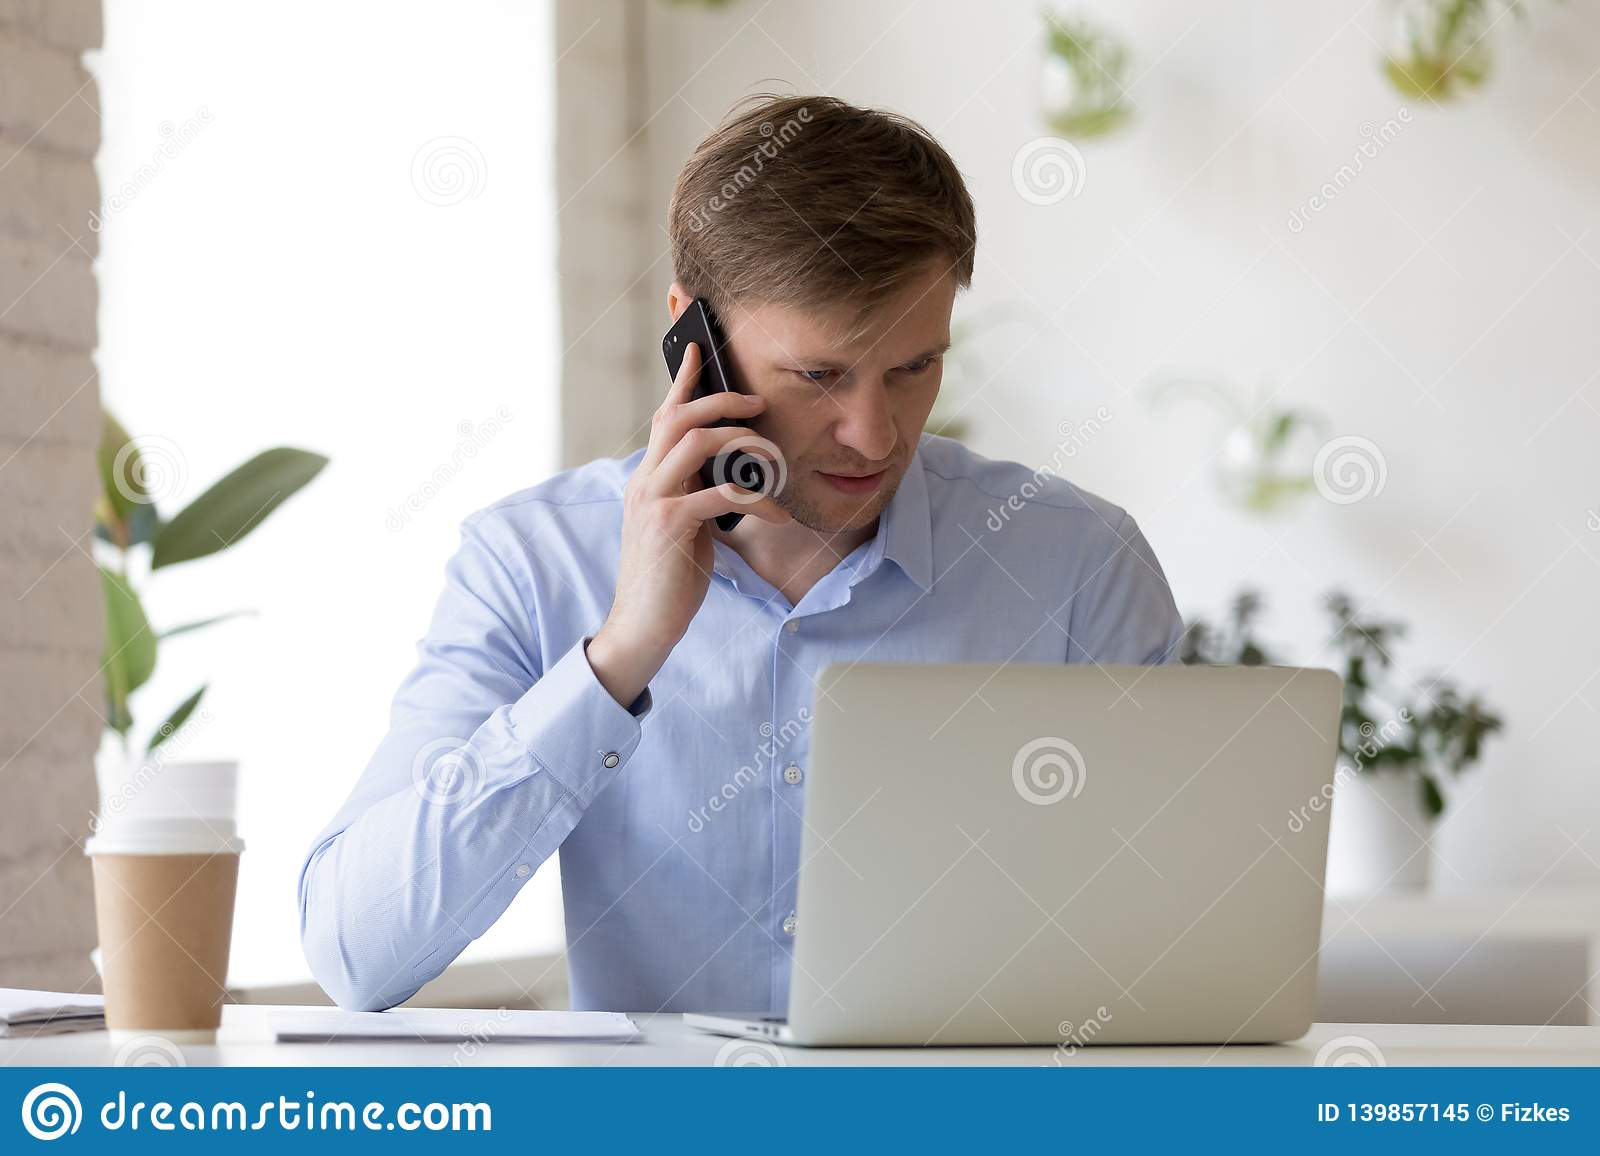phone: (663, 298, 763, 526)
talk: (610, 289, 948, 653)
